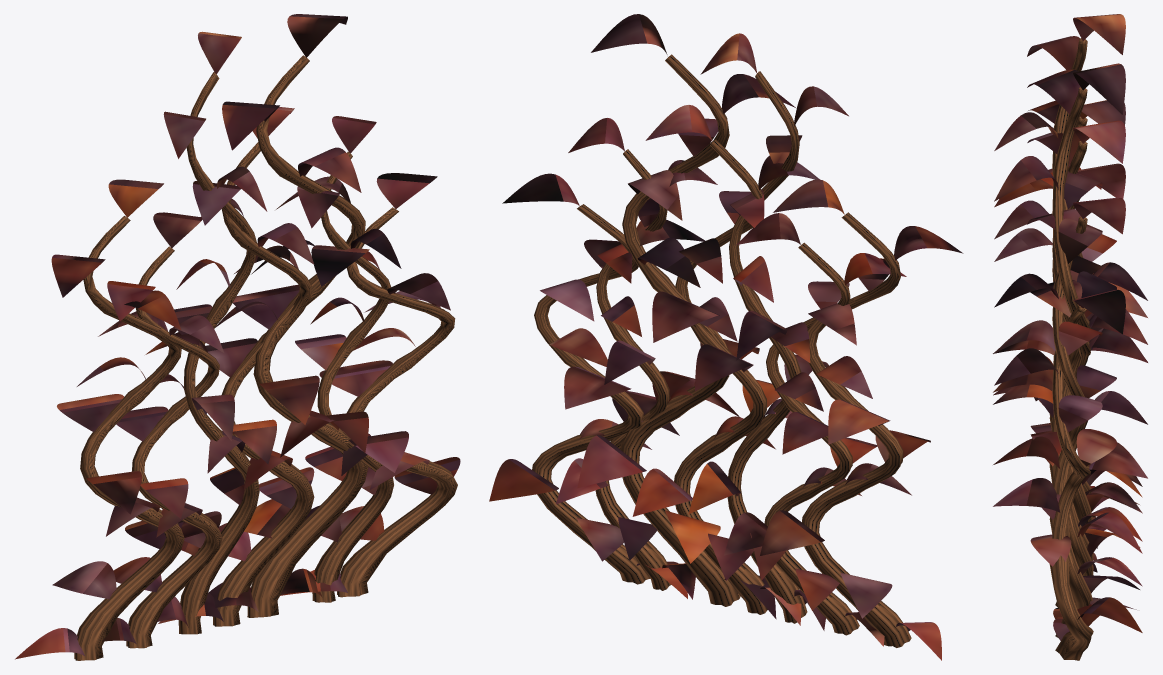
Rendered from rustvine_01.glb.
3 renders of one model, left to right at view 1: azimuth 30°, elevation 25°; view 2: azimuth 150°, elevation 25°; view 3: azimuth 270°, elevation 25°, orthographic.
Visible parts, largest first — view 1: export; view 2: export; view 3: export.
Boxes of the visible parts, <box> form: export: <box>15,14,460,660</box>; export: <box>489,14,963,660</box>; export: <box>993,14,1147,660</box>.
Size of the model in its own units: 2.48 by 3.12 by 0.7516.
2 materials, 2 textured.
